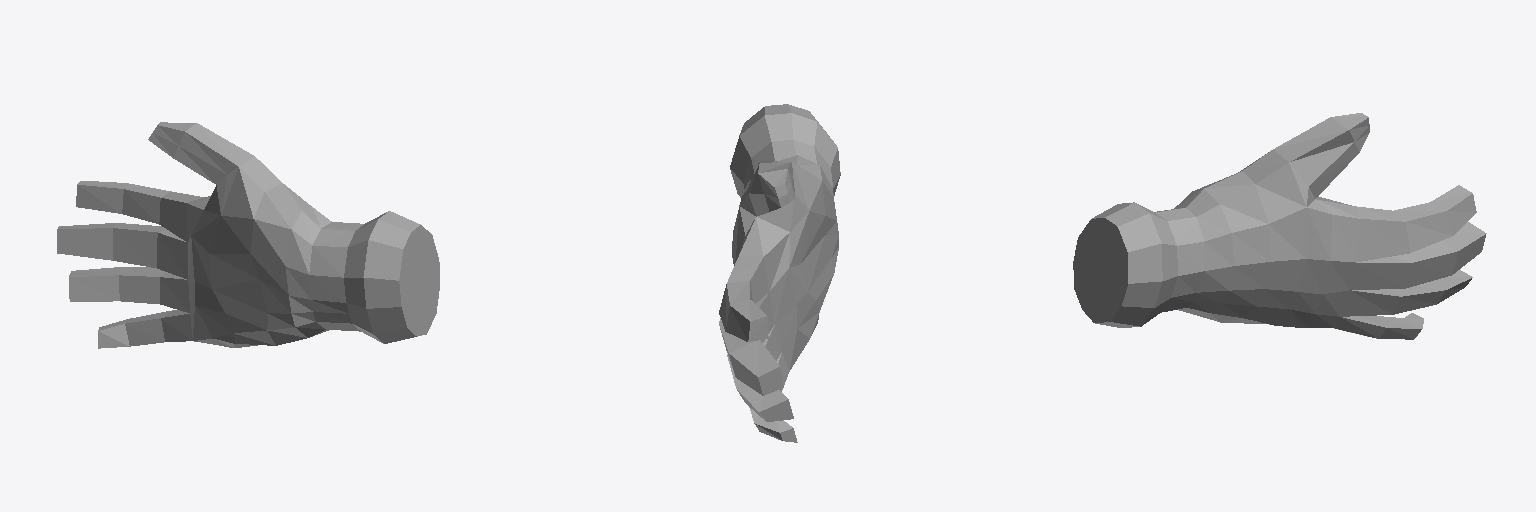
File: hand.obj
3 renders of one model, left to right at view 1: azimuth 30°, elevation 25°; view 2: azimuth 150°, elevation 25°; view 3: azimuth 270°, elevation 25°, orthographic.
Visible parts, largest first — view 1: Cylinder.003_Cylinder.005; view 2: Cylinder.003_Cylinder.005; view 3: Cylinder.003_Cylinder.005.
Part boxes in pixels (x1,y1,x2,y2): Cylinder.003_Cylinder.005: (57,122,439,348); Cylinder.003_Cylinder.005: (719,104,840,442); Cylinder.003_Cylinder.005: (1073,113,1486,339).
Size of the model in its own units: 1.04 by 1.08 by 1.73.